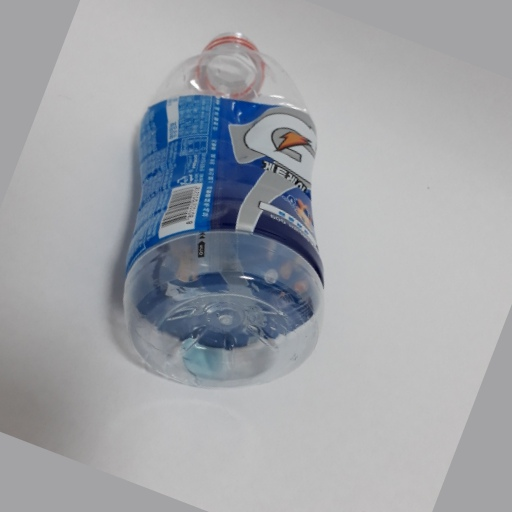Plastic_0: (116, 31, 328, 388)
